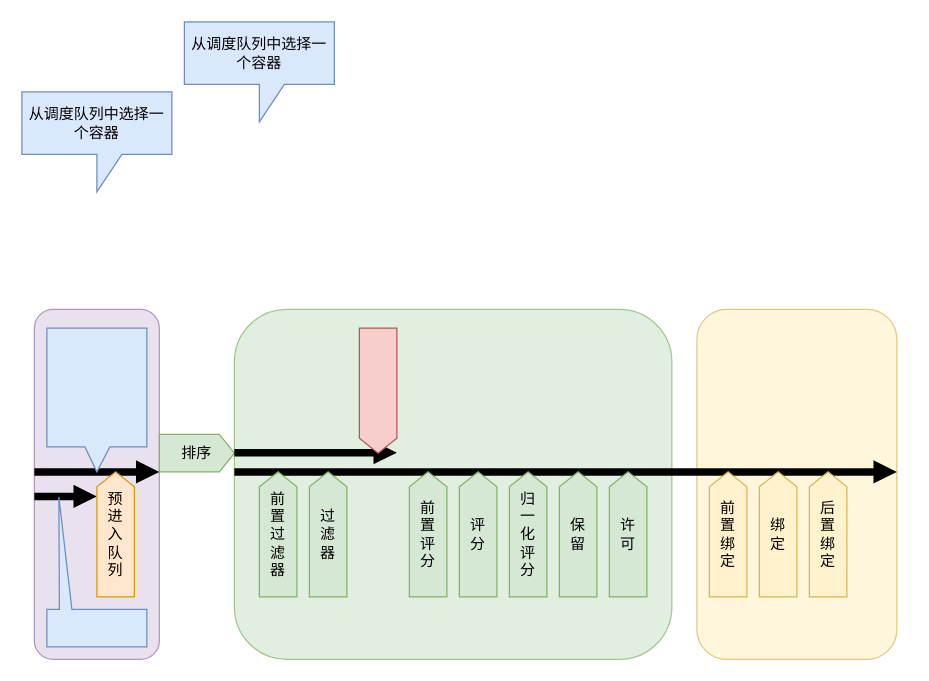
This 929x681 diagram has some shape labels left out. Each missing label, with the centre of its shape:
"后 置 过 滤 器" belongs at (377,390).
"新容器到达" belongs at (96,571).
"新容器通过 “预进入队列” 插件" belongs at (96,399).
